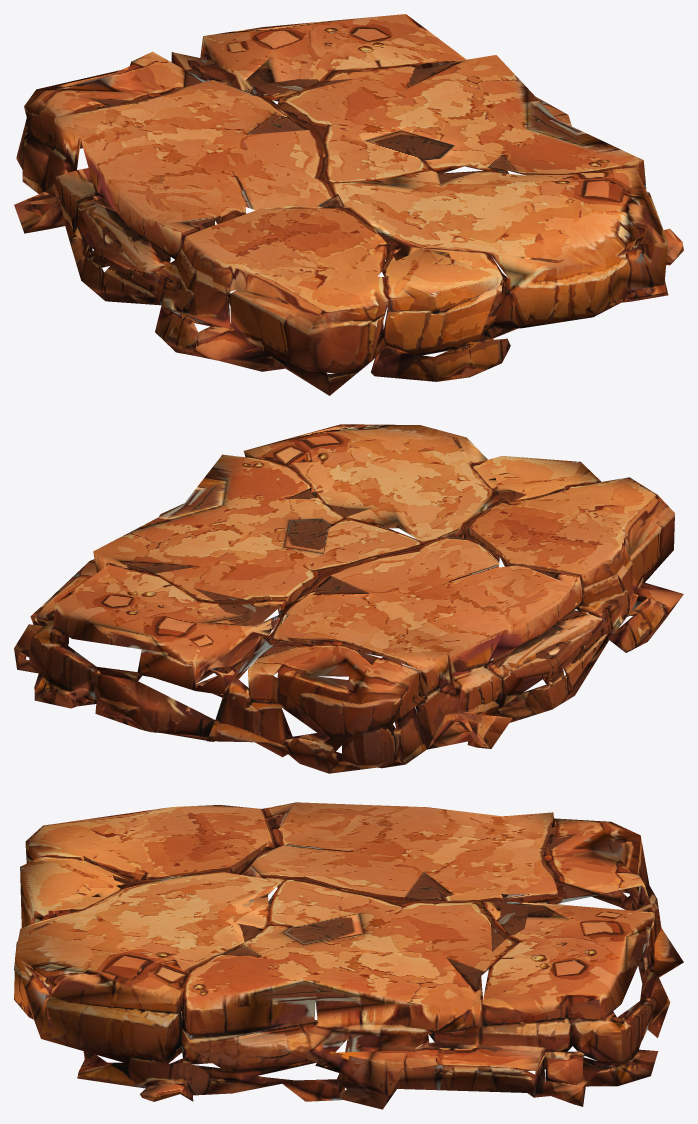
File: EX_Env_RockSlab.fbx
3 views of the same model, one above another, from view 1: azimuth 30°, elevation 25°; view 2: azimuth 150°, elevation 25°; view 3: azimuth 270°, elevation 25° (orthographic). The views are drawn at different scales.
Parts seen in each view (by area): view 1: texture_mapping; view 2: texture_mapping; view 3: texture_mapping.
Part boxes in pixels (x1,y1,x2,y2): texture_mapping: (14,14,683,395); texture_mapping: (14,424,683,773); texture_mapping: (14,802,683,1109).
Size of the model in its own units: 0.8162 by 0.9624 by 0.1601.
Materials: 1 (1 with a texture image).
